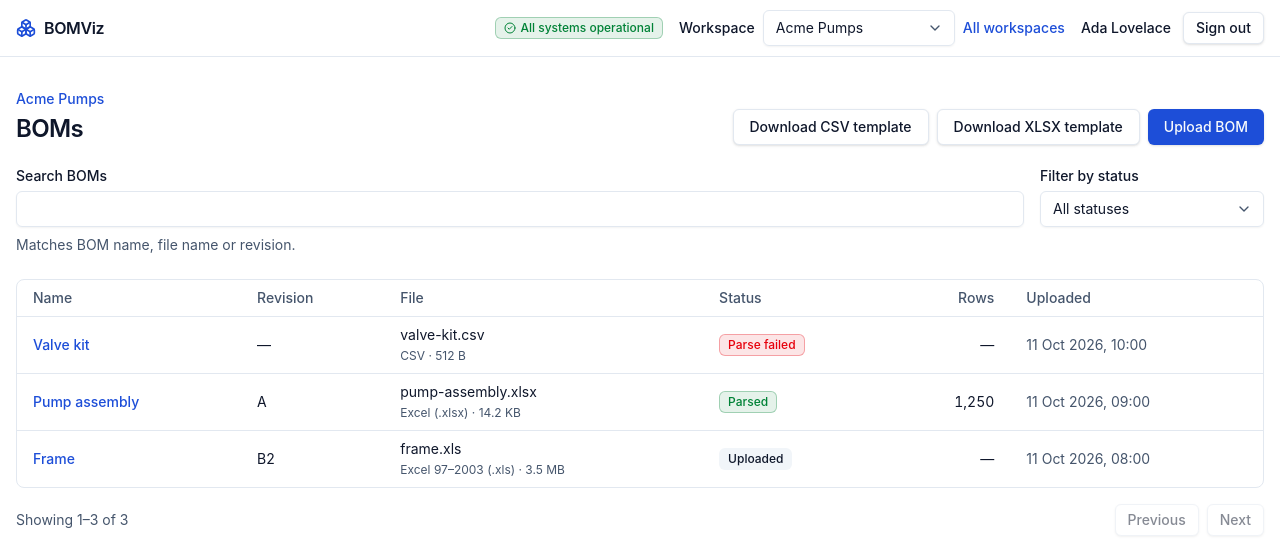
Test: BomsPage upload access › offers Upload BOM to an ADMIN and opens the upload page
The width and height of the screenshot is (1280, 553).
Step 1. Click the link "Upload BOM" → (1206, 127), box [1148, 109, 1264, 145]
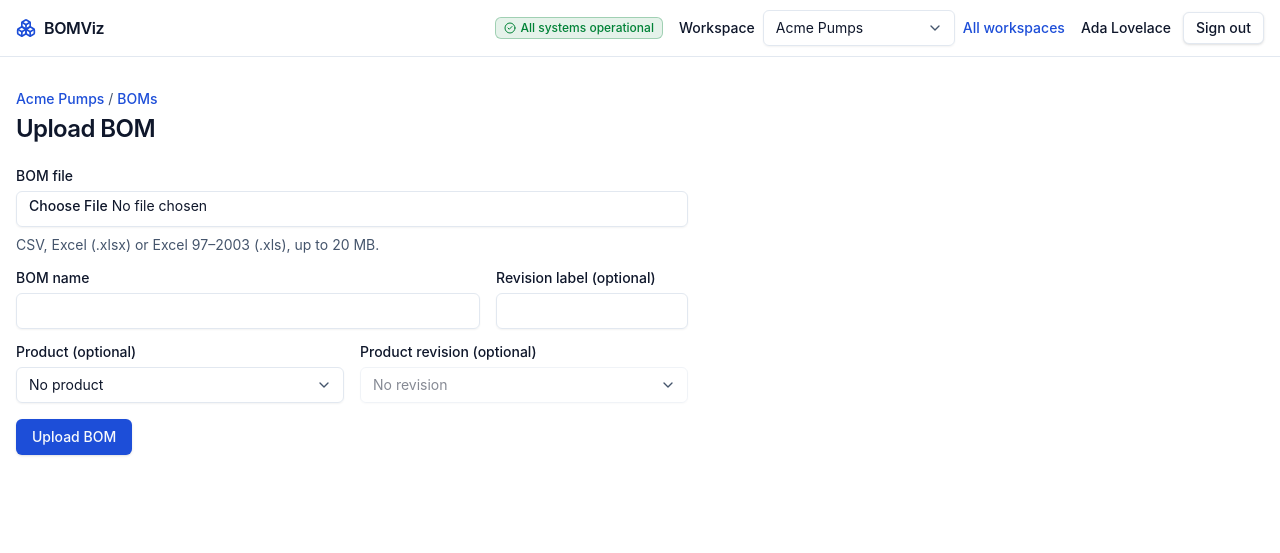
Expected: the heading "Upload BOM" is shown, [16, 114, 155, 143]
Expected: the dropdown labelled "Product (optional)" is enabled, [16, 367, 344, 403]
